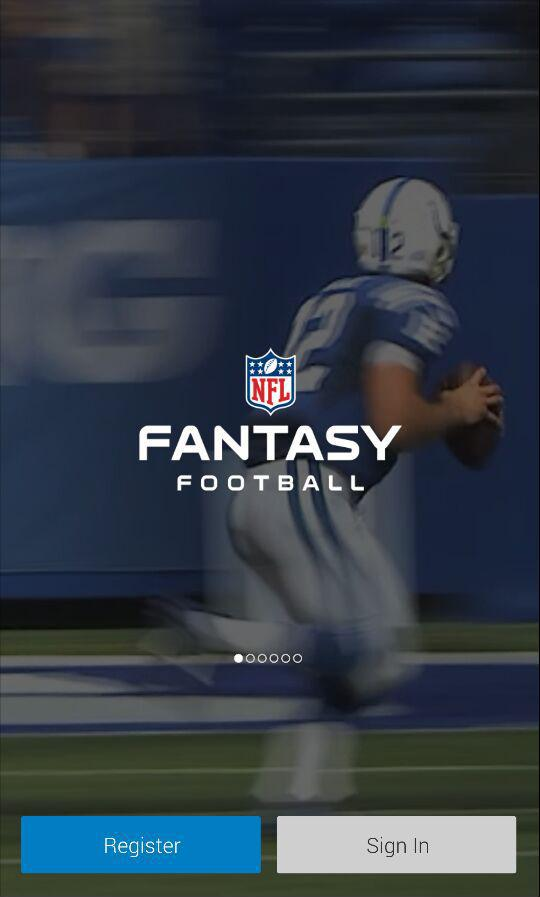BackgroundImage: (1, 1, 540, 897)
Image: (139, 347, 402, 493)
PageIndicator: (233, 653, 304, 665)
TextButton: (21, 815, 262, 875), (277, 816, 517, 874)
